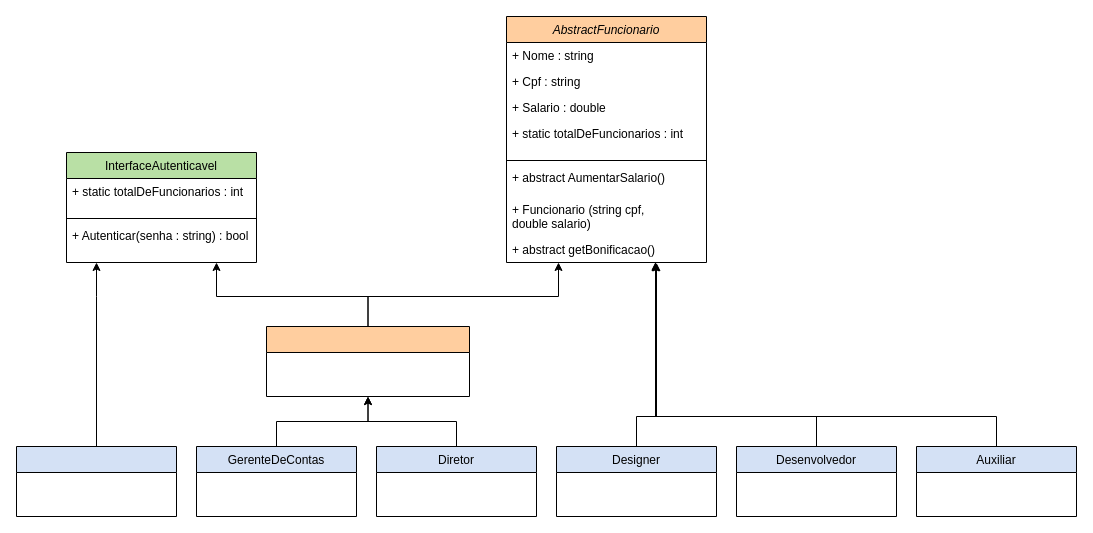
Image size: 1093x533. Some labels were removed from this diagram. Here are the shapes that lost their labels. From the top down, the centre of each, then its label:
At (368,361): "AbstractFuncionarioAutenticavel".
At (96,481): "ParceiroComercial".
